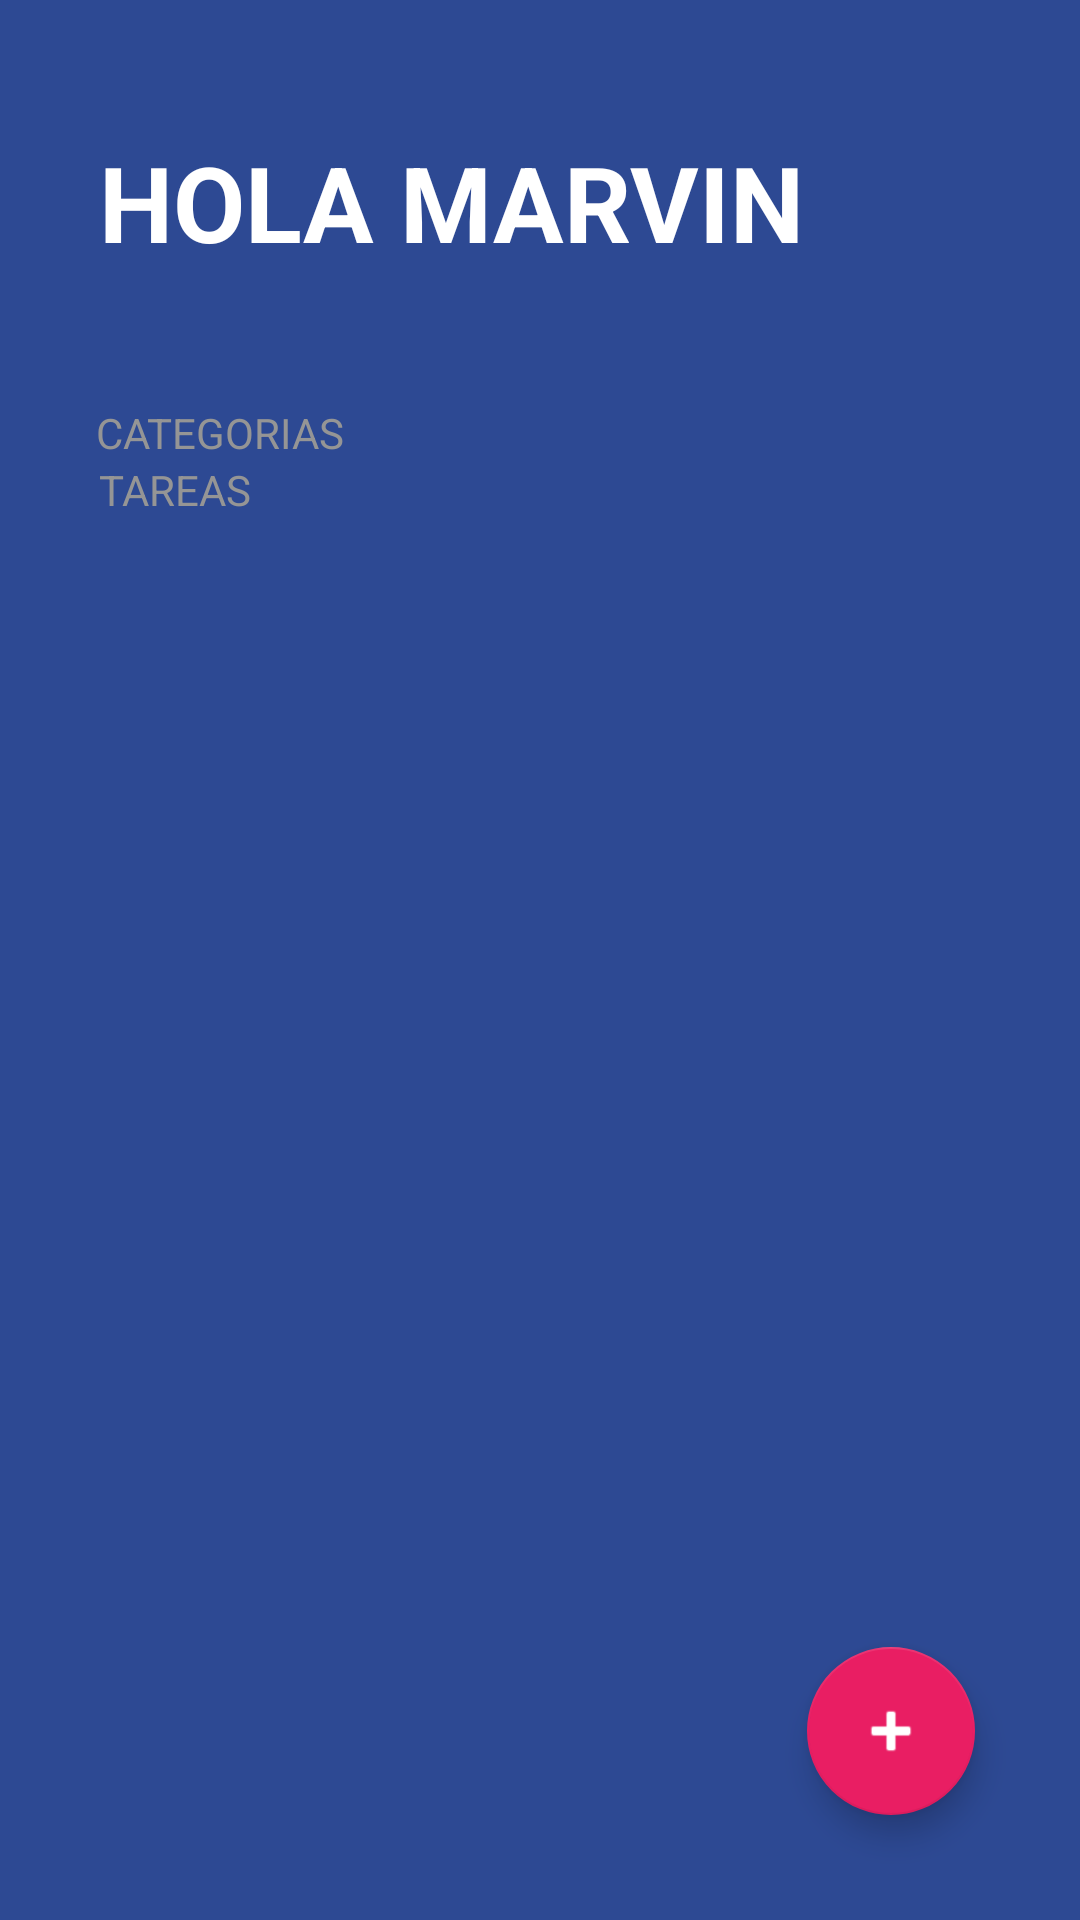

Named icons in this screenshot (1080×1920) and their bounding boxes, (x1, y1, x2, y2):
add: (807, 1647, 975, 1815)
